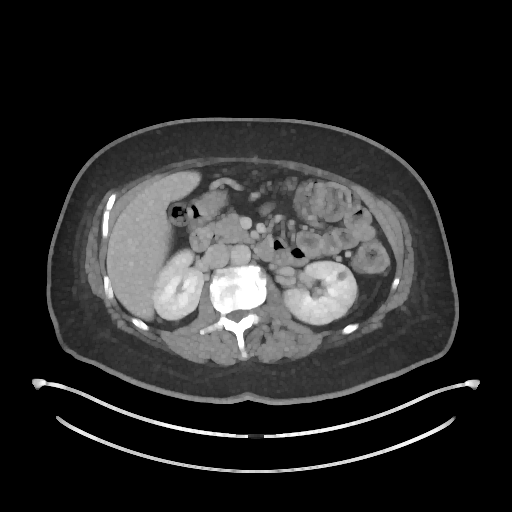Lesion: (335, 267, 349, 284)
